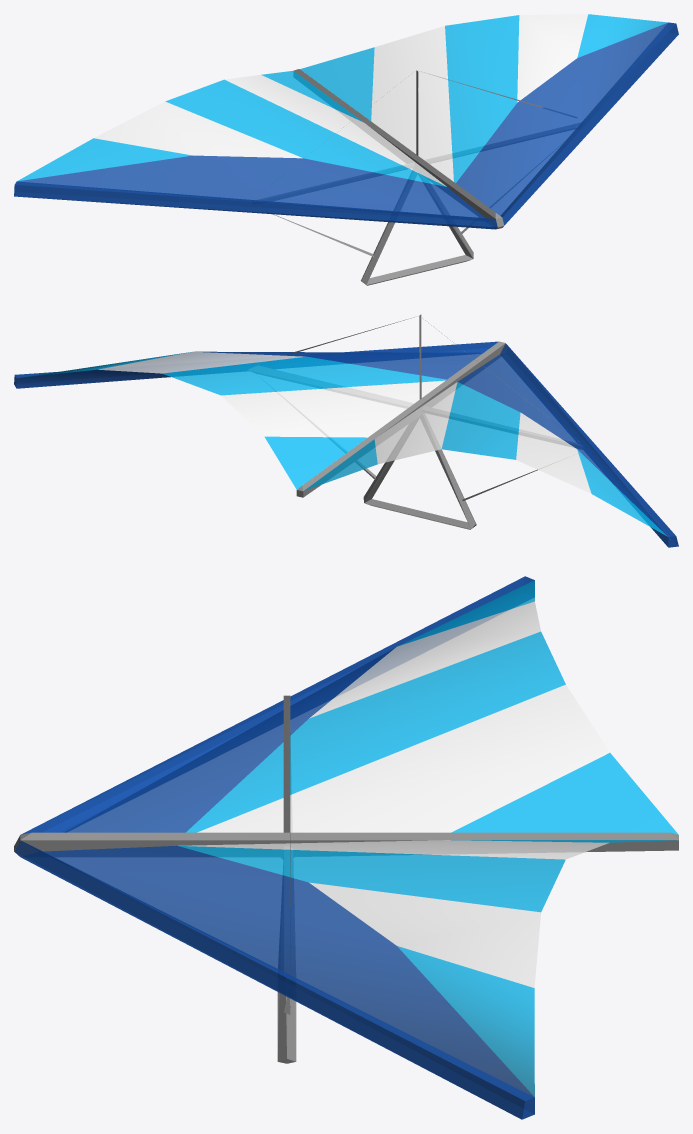
Rendered from Hang Glider.FBX.
3 views of the same model, one above another, from view 1: azimuth 30°, elevation 25°; view 2: azimuth 150°, elevation 25°; view 3: azimuth 270°, elevation 25° (orthographic). The views are drawn at different scales.
Visible parts, largest first — view 1: Object001, HANGGLID, NGon001, Rectangle001; view 2: Object001, HANGGLID, NGon001, Rectangle001; view 3: Object001, NGon001, HANGGLID.
Boxes of the visible parts, x1,y1,x2,y2 form: Object001: [14, 14, 678, 229]; HANGGLID: [259, 70, 579, 284]; NGon001: [293, 69, 504, 229]; Rectangle001: [361, 255, 472, 285]; Object001: [14, 341, 678, 547]; HANGGLID: [249, 314, 582, 528]; NGon001: [296, 341, 506, 497]; Rectangle001: [364, 499, 476, 529]; Object001: [14, 576, 678, 1119]; NGon001: [14, 832, 678, 858]; HANGGLID: [277, 695, 296, 1061].
Size of the model in its own units: 199 by 58.01 by 106.
